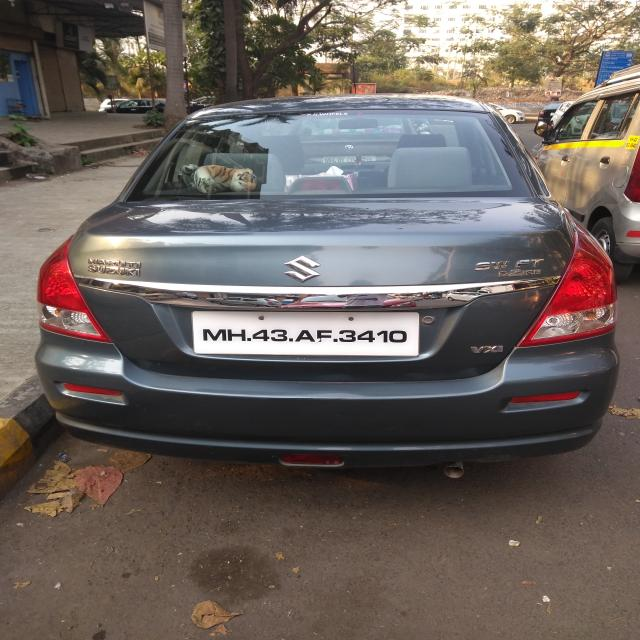Number-Plate: (198, 313, 418, 354)
